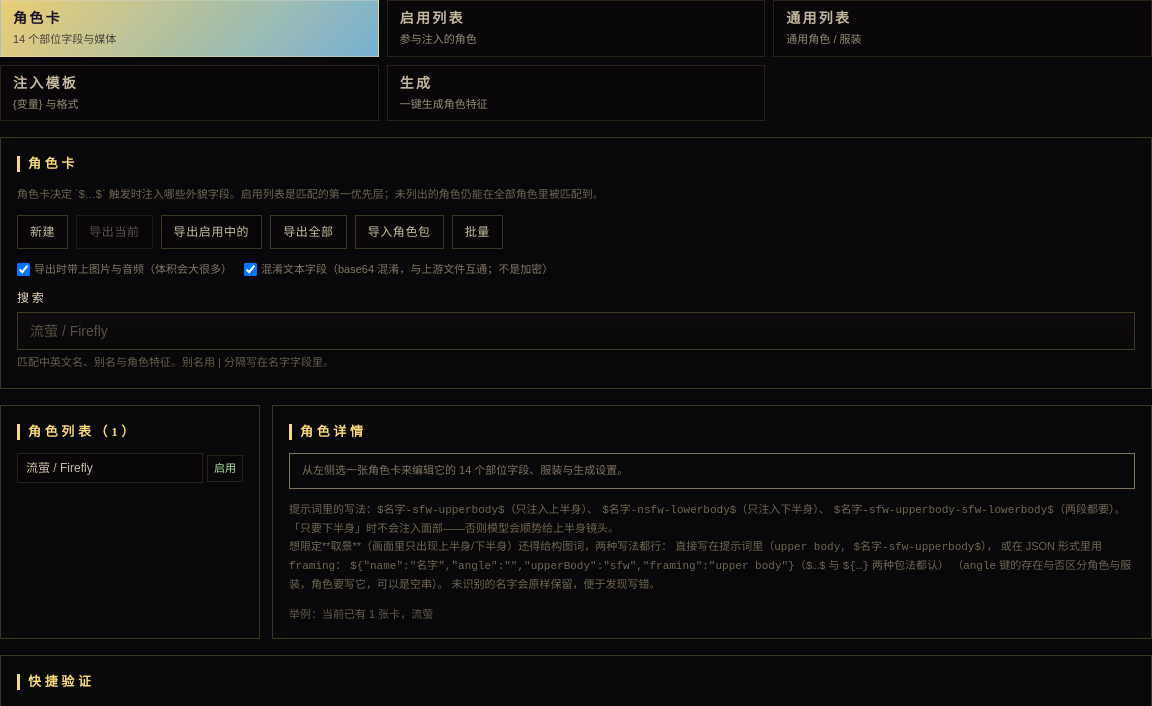
Test: 角色管理面板 › 生成结果与提示词消息列表都限高并可内部滚动
This screenshot has width=1152, height=706.
Click the button "生成 一键生成角色特征". click: point(416, 83)
box: x1=387 y1=64 x2=765 y2=121
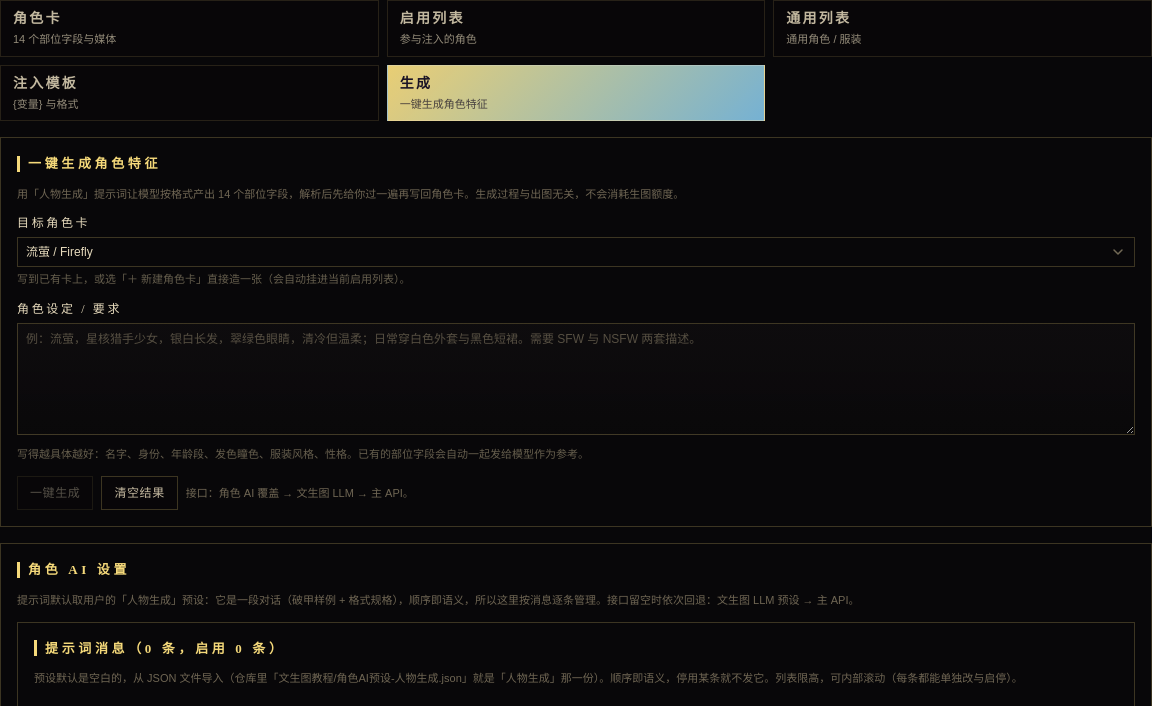
Replace the text in the text box with placeholder "流萤，星核猎手少女" with "流萤". click: point(576, 379)
box: x1=17 y1=323 x2=1135 y2=435
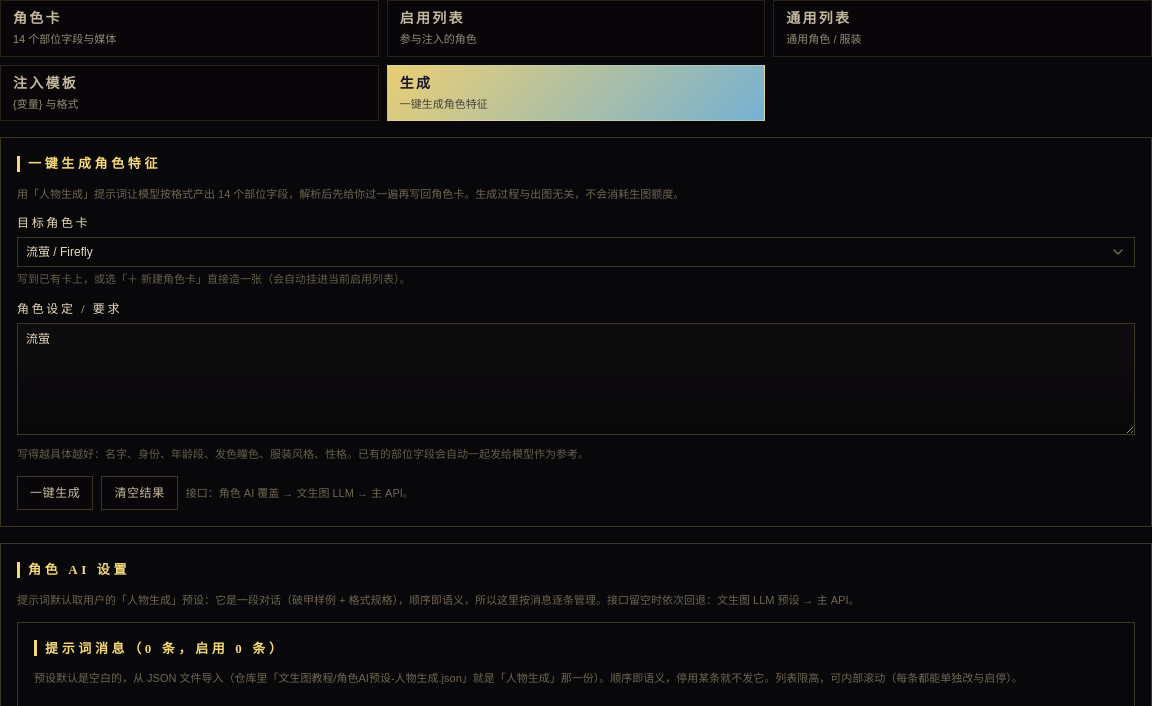
Click the button "一键生成". click: point(55, 493)
box: x1=17 y1=476 x2=93 y2=510
(page scrolled)
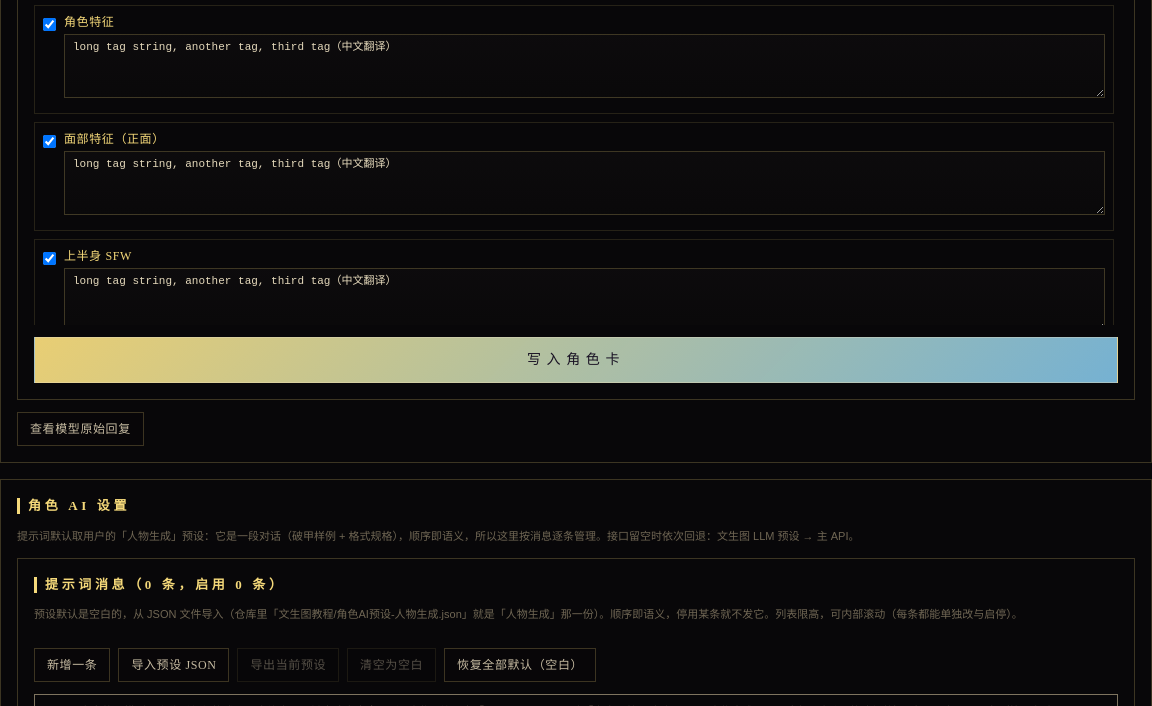
Result: the button "写入角色卡" is shown at x1=34 y1=337 x2=1118 y2=383
